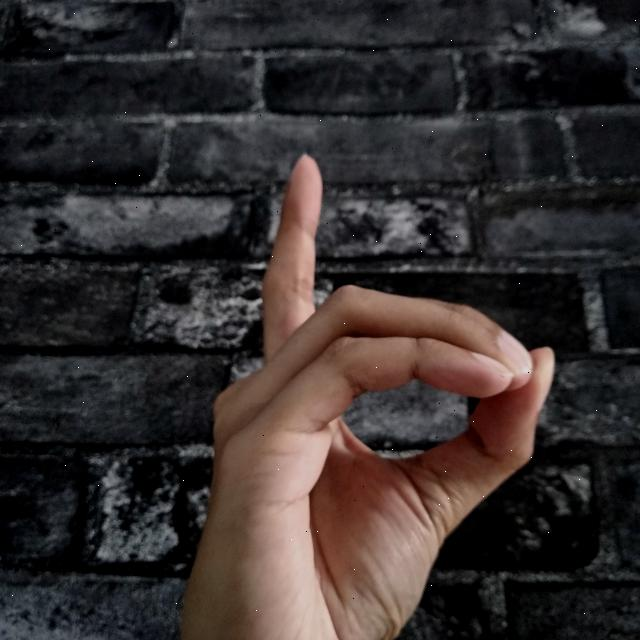D: (176, 144, 562, 640)
